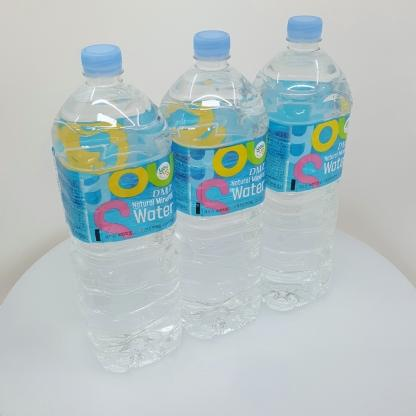--------1-5L: (51, 44, 182, 371), (159, 30, 269, 339), (254, 16, 353, 311)
